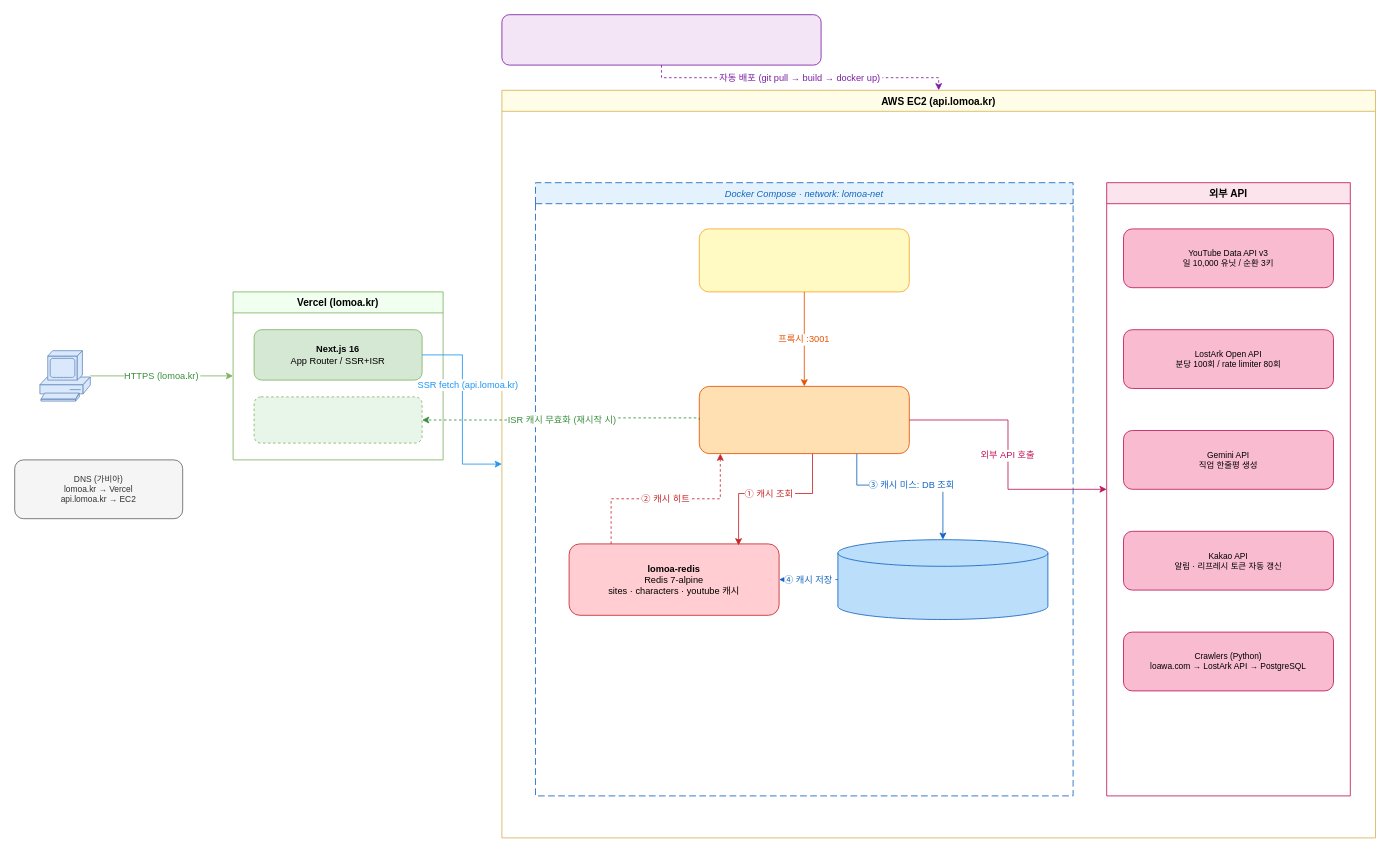
This 1390x853 diagram has some shape labels left out. The shapes that lost their labels are listed below. From the top down, each one's centre as x and y in pixels, then its label:
point 661,39: GitHub Actions main 브랜치 push → AWS SSM → EC2 자동 배포
point 803,260: lomoa-nginx Nginx (Reverse Proxy / SSL) ports: 80 → 443 → :3001
point 64,375: 사용자
point 337,419: ISR Cache (revalidate: 3600s) 재시작 시 자동 무효화
point 803,420: lomoa-nest NestJS :3001 depends_on: postgres, redis
point 942,579: lomoa-postgres PostgreSQL 16 volume: postgres_data
